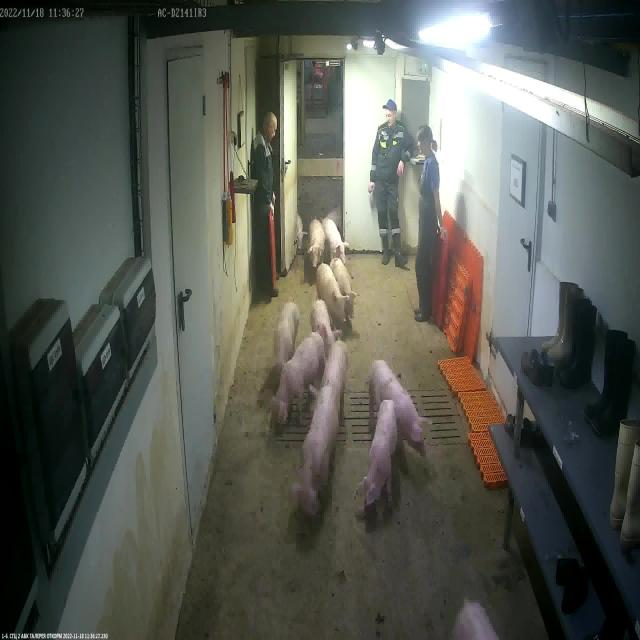pig: (292, 388, 338, 515), (272, 332, 324, 426), (372, 362, 428, 443), (356, 400, 396, 504), (312, 258, 359, 346), (309, 341, 348, 405), (272, 303, 300, 368), (317, 264, 346, 322), (312, 300, 340, 350), (324, 219, 346, 263), (309, 219, 324, 267)
